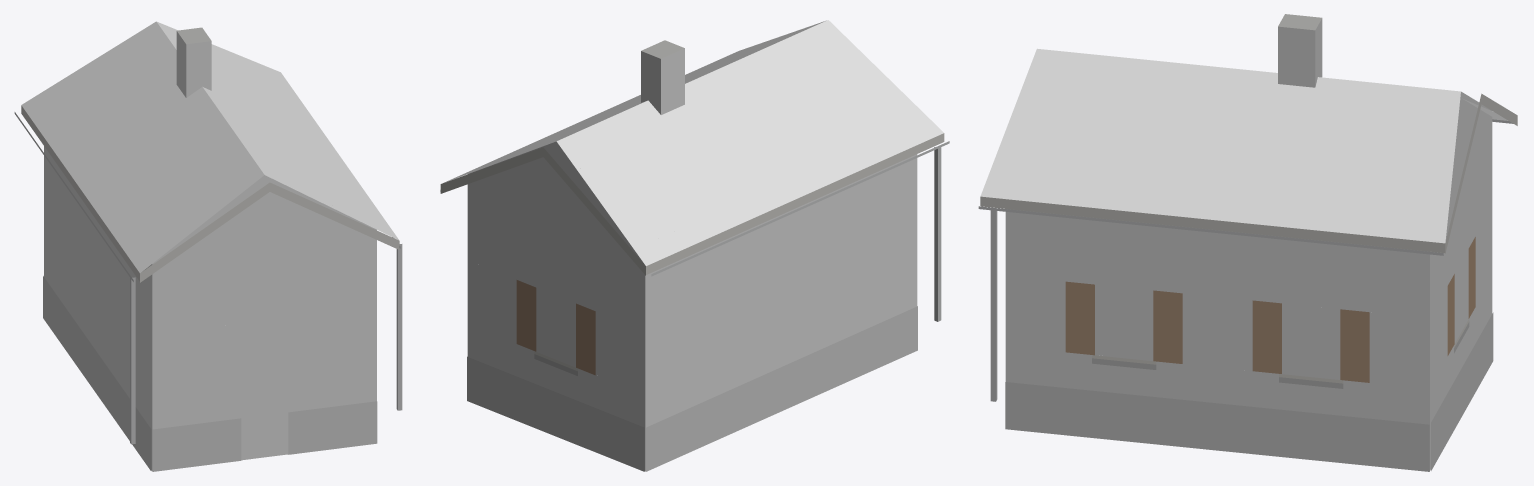
3 renders of one model, left to right at view 1: azimuth 30°, elevation 25°; view 2: azimuth 150°, elevation 25°; view 3: azimuth 270°, elevation 25°, orthographic. The views are drawn at different scales.
Visible parts, largest first — view 1: bld; view 2: bld; view 3: bld.
Part boxes in pixels (x1,y1,x2,y2): bld: [14, 21, 402, 471]; bld: [440, 20, 949, 471]; bld: [978, 14, 1517, 471].
Size of the model in its own units: 7.16 by 6.91 by 9.01.
